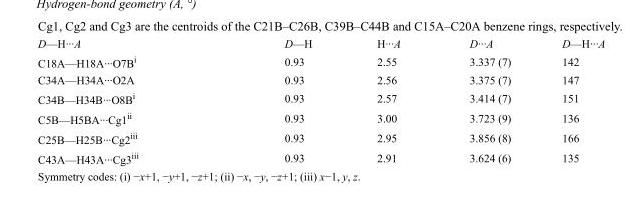table: (37, 36, 604, 165)
table column: (37, 36, 210, 165), (210, 36, 343, 165), (434, 36, 535, 165), (343, 36, 434, 165), (535, 36, 604, 165)
table row: (37, 51, 604, 71), (37, 87, 604, 107), (37, 107, 604, 127), (37, 127, 604, 147), (37, 147, 604, 165), (37, 71, 604, 87), (37, 36, 604, 51)
